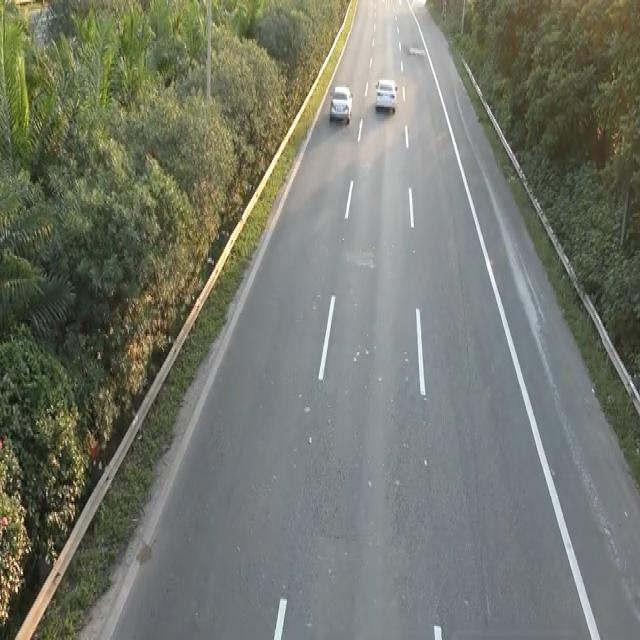bus: (328, 82, 353, 124), (374, 74, 398, 114)
